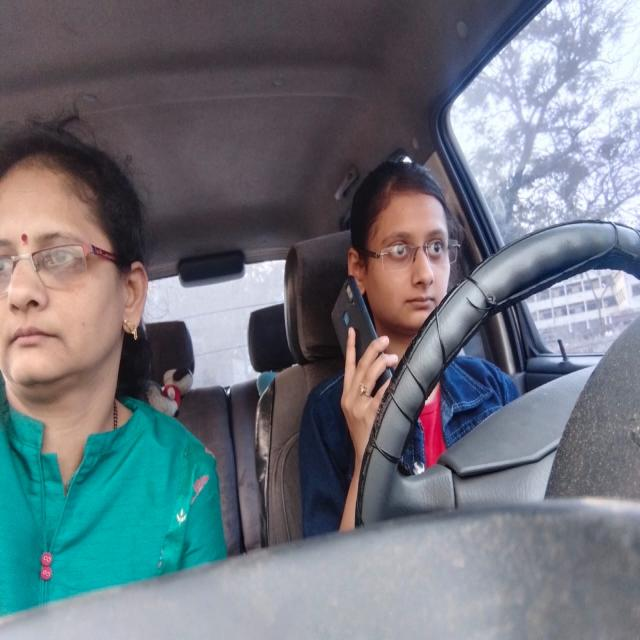mobile: (325, 267, 404, 399)
person: (0, 124, 159, 412), (335, 158, 457, 334)
